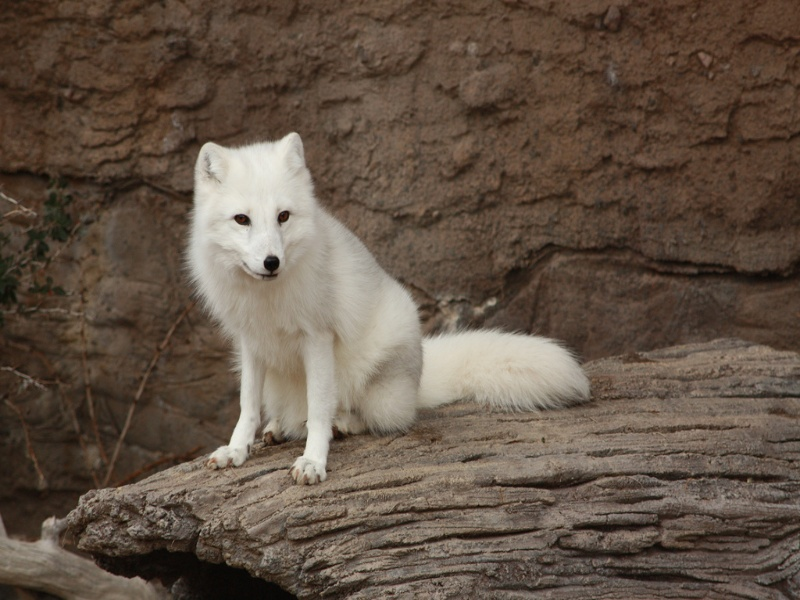fox: (184, 130, 596, 480)
